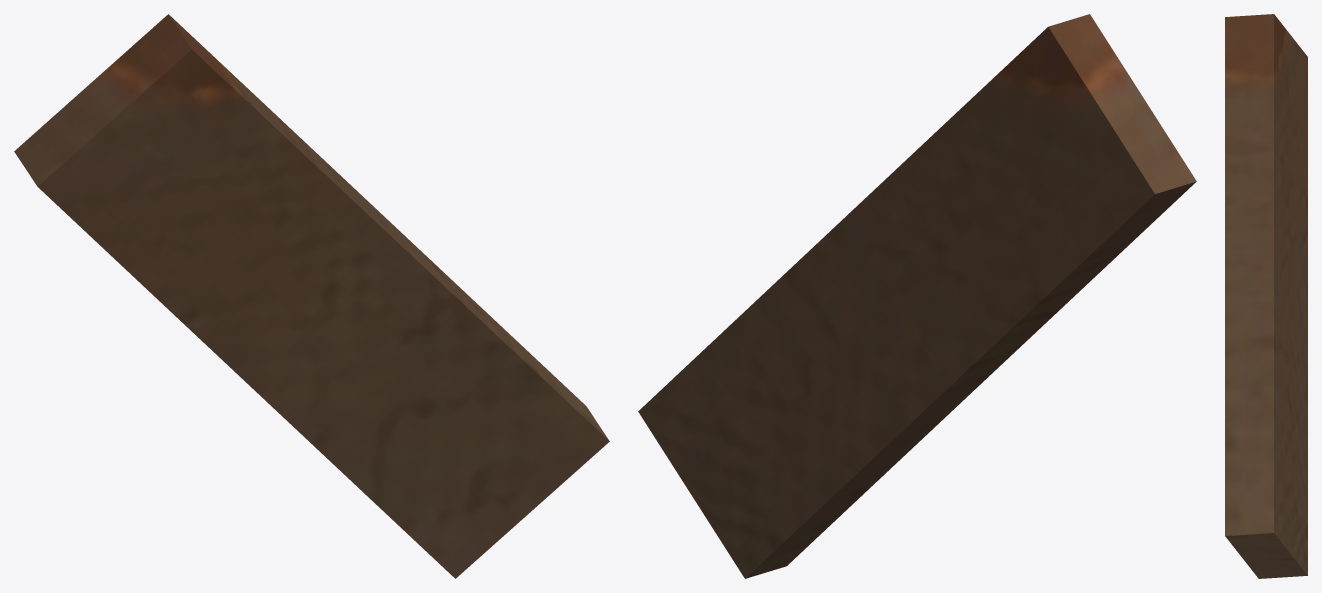
Rendered from fan_right__blade_7.glb.
The picture shows the model from 3 angles, left to right: view 1: azimuth 30°, elevation 25°; view 2: azimuth 150°, elevation 25°; view 3: azimuth 270°, elevation 25°; orthographic projection. The views are drawn at different scales.
Visible parts, largest first — view 1: geometry_0; view 2: geometry_0; view 3: geometry_0.
Part boxes in pixels (x1,y1,x2,y2): geometry_0: (14,14,609,578); geometry_0: (638,14,1196,578); geometry_0: (1225,14,1307,578).
Bounding box in the file's own units: 0.0248 × 0.0265 × 0.00428.
Materials: 1 (1 with a texture image).
